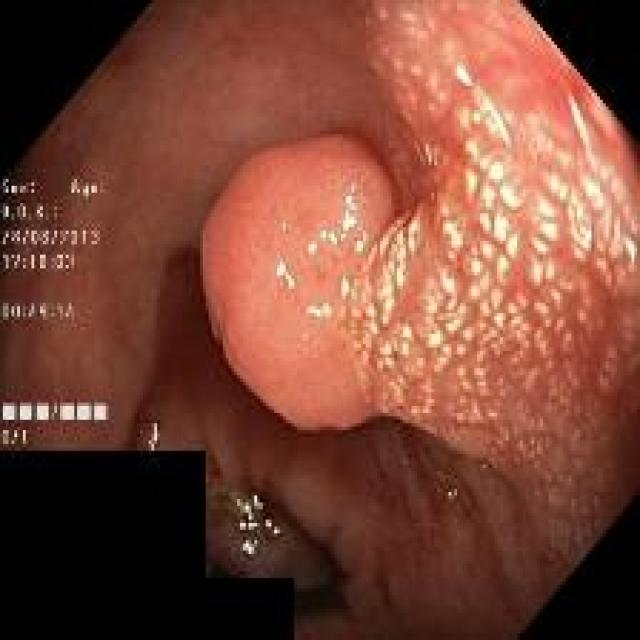Polyps: (201, 134, 398, 430)
